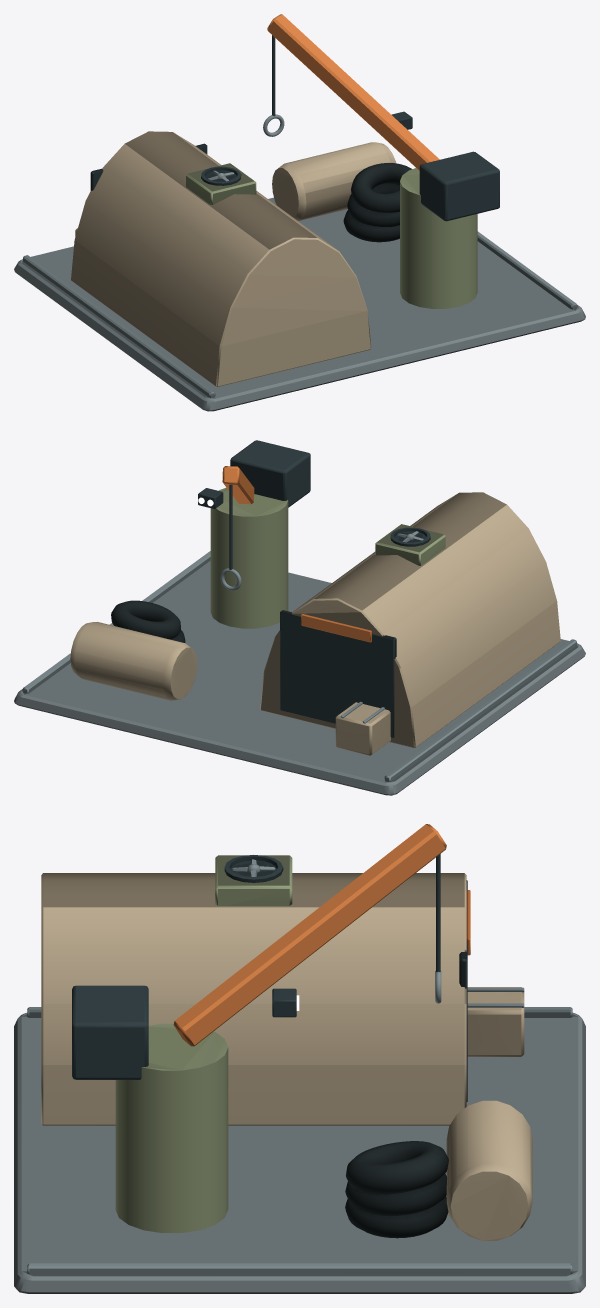
The model's file is MotorPool.glb.
The picture shows the model from 3 angles, top to bottom: view 1: azimuth 30°, elevation 25°; view 2: azimuth 150°, elevation 25°; view 3: azimuth 270°, elevation 25°; orthographic projection. The views are drawn at different scales.
Parts seen in each view (by area): view 1: export_MotorPool_GravelPad; view 2: export_MotorPool_GravelPad; view 3: export_MotorPool_GravelPad.
Part boxes in pixels (x1,y1,x2,y2): export_MotorPool_GravelPad: (14,14,585,411); export_MotorPool_GravelPad: (14,440,585,795); export_MotorPool_GravelPad: (14,824,585,1293).
Size of the model in its own units: 6.28 by 3.75 by 5.58.
